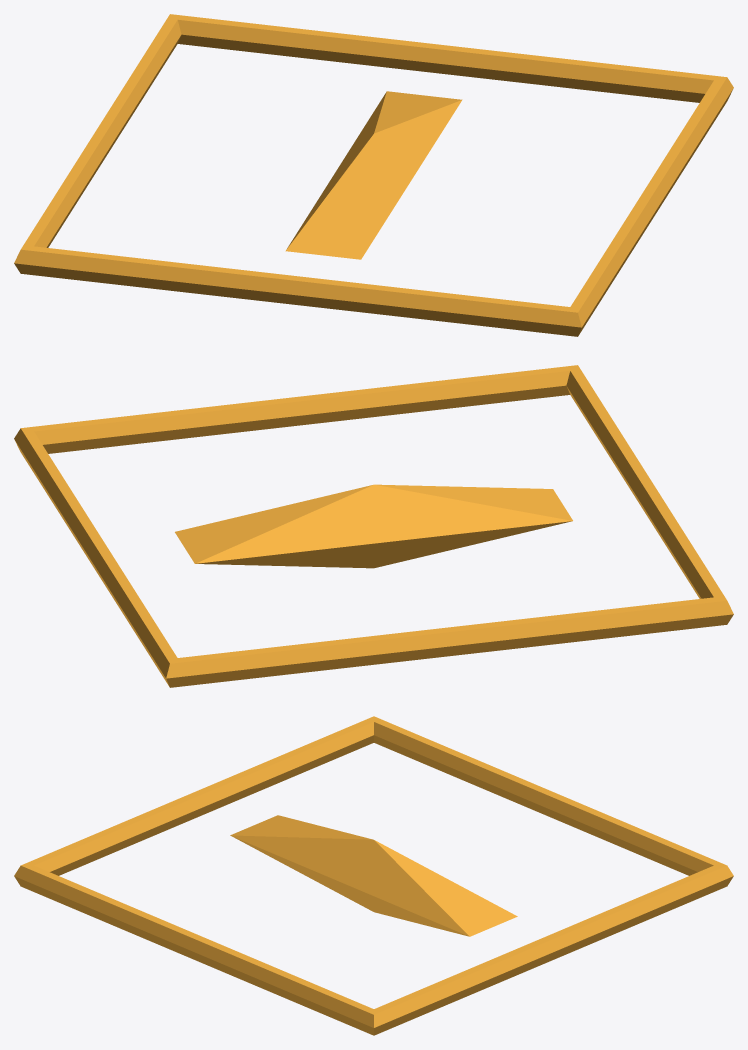
The model's file is vmt_marked_selection_glyph.obj.
3 views of the same model, one above another, from view 1: azimuth 30°, elevation 25°; view 2: azimuth 150°, elevation 25°; view 3: azimuth 270°, elevation 25° (orthographic). The views are drawn at different scales.
Parts seen in each view (by area): view 1: VMT_MarkedSelectionGlyph; view 2: VMT_MarkedSelectionGlyph; view 3: VMT_MarkedSelectionGlyph.
Part boxes in pixels (x1=…): VMT_MarkedSelectionGlyph: x1=14, y1=14, x2=733, y2=336; VMT_MarkedSelectionGlyph: x1=14, y1=365, x2=733, y2=687; VMT_MarkedSelectionGlyph: x1=14, y1=716, x2=733, y2=1035.
Size of the model in its own units: 1.35 by 0.15 by 1.35.
